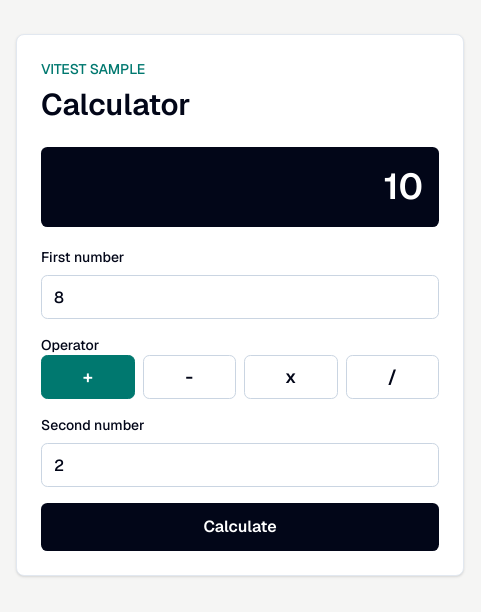
Test: Calculator › shows an error when dividing by zero
The width and height of the screenshot is (481, 612).
Click the button with test id "calculator-operator-divide": [392, 377] box [346,355,439,399]
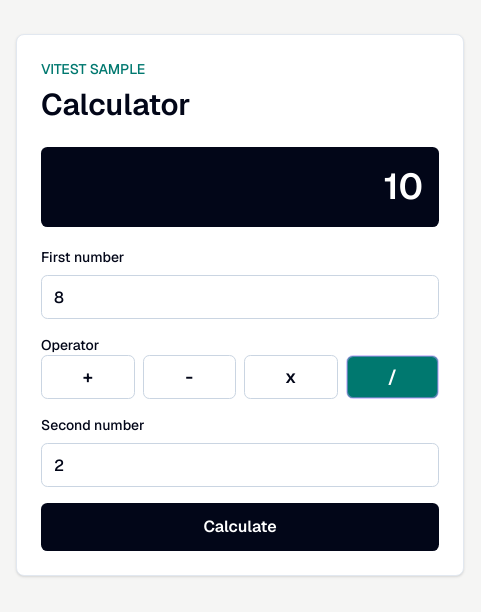
Replace the text in the number field with test id "calculator-second-number" with "0": [240, 465] box [41,443,439,487]
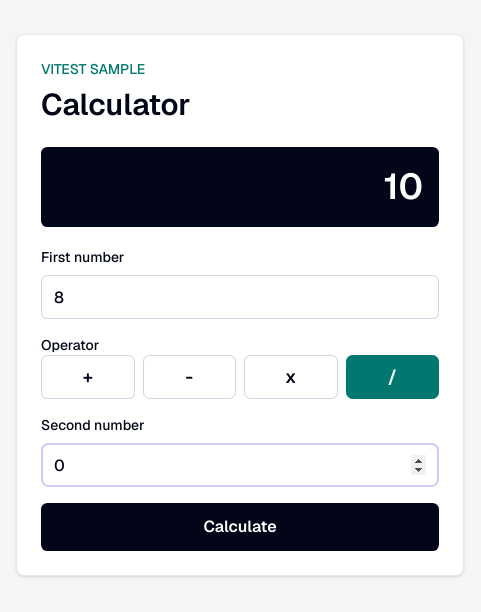
Click the button with test id "calculator-submit": [240, 527] box [41,503,439,551]
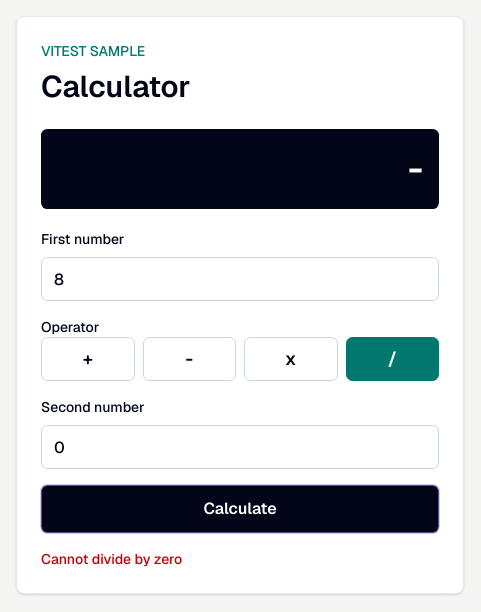
Expected: the message reads "Cannot divide by zero", [41,550,182,568]
